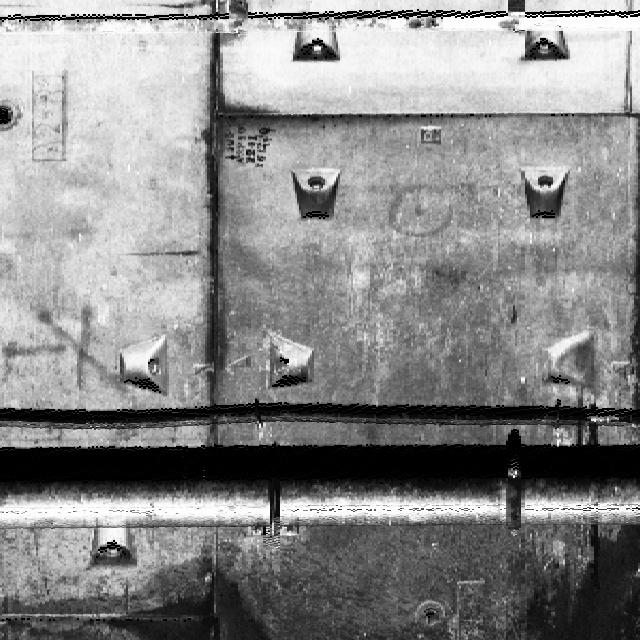leakage: (200, 18, 278, 404), (0, 556, 280, 639), (510, 512, 639, 639)
